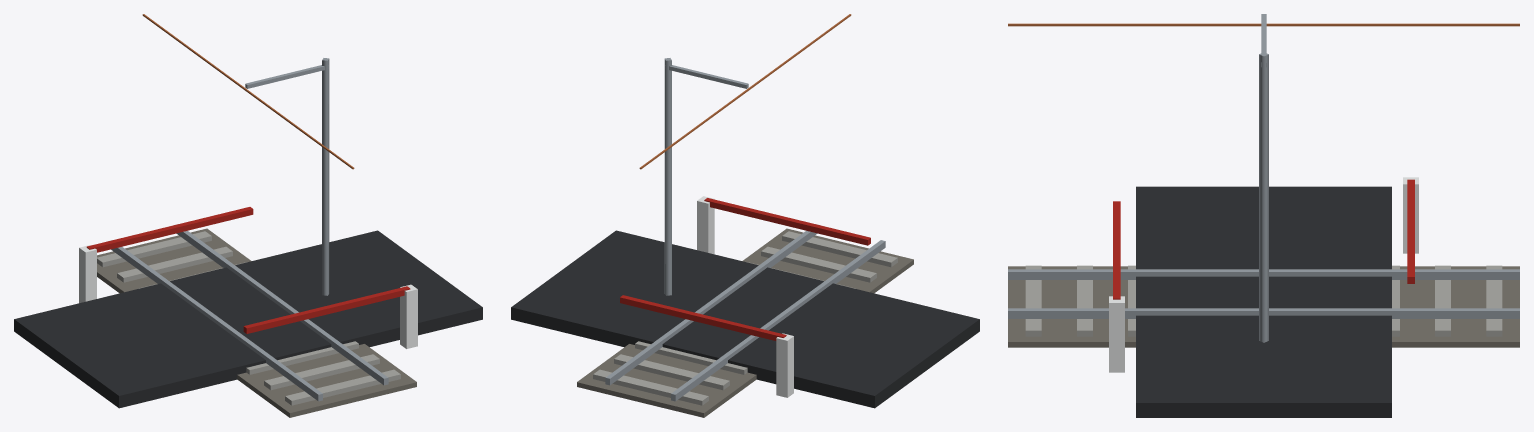
The model's file is road_rail_viii_crossing.glb.
3 views of the same model, side by side, from view 1: azimuth 30°, elevation 25°; view 2: azimuth 150°, elevation 25°; view 3: azimuth 270°, elevation 25° (orthographic). The views are drawn at different scales.
Parts seen in each view (by area): view 1: body, barrier_1, barrier_0; view 2: body, barrier_0, barrier_1; view 3: body, barrier_1, barrier_0.
Boxes of the visible parts, bbox=[...] form: body: bbox=[14, 14, 482, 417]; barrier_1: bbox=[243, 284, 417, 348]; barrier_0: bbox=[79, 207, 253, 303]; body: bbox=[511, 14, 979, 417]; barrier_0: bbox=[620, 295, 793, 397]; barrier_1: bbox=[697, 196, 870, 254]; body: bbox=[1008, 14, 1519, 417]; barrier_1: bbox=[1109, 201, 1124, 372]; barrier_0: bbox=[1403, 177, 1418, 283].
Size of what is drawn, in the model's own units: 8 by 5.2 by 8.
